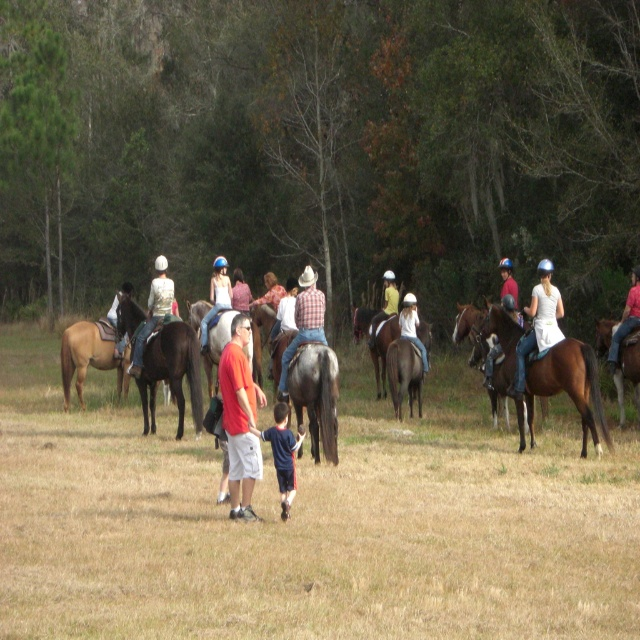Horse: (60, 290, 640, 466)
